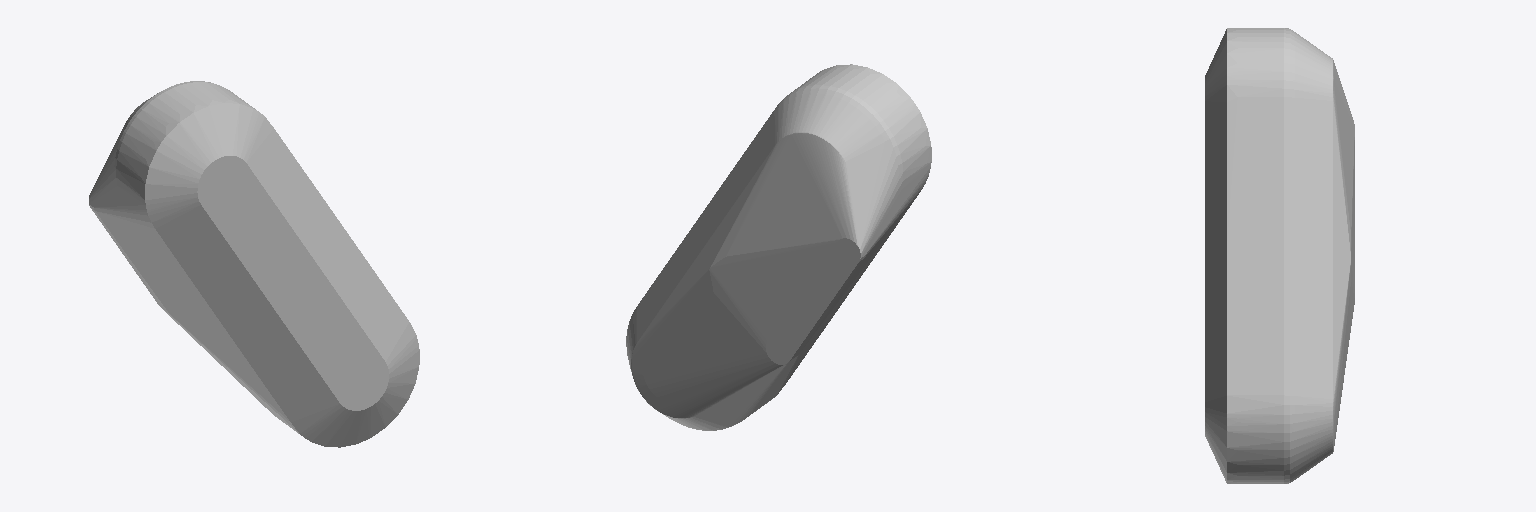
The model's file is right tibiotarsus.obj.
The picture shows the model from 3 angles: view 1: azimuth 30°, elevation 25°; view 2: azimuth 150°, elevation 25°; view 3: azimuth 270°, elevation 25°; orthographic projection.
Visible parts, largest first — view 1: obj1; view 2: obj1; view 3: obj1.
Part boxes in pixels (left/top/right/bottom): obj1: left=89, top=81, right=419, bottom=447; obj1: left=626, top=64, right=931, bottom=430; obj1: left=1205, top=28, right=1354, bottom=483.
Size of the model in its own units: 0.2103 by 0.2736 by 0.099.